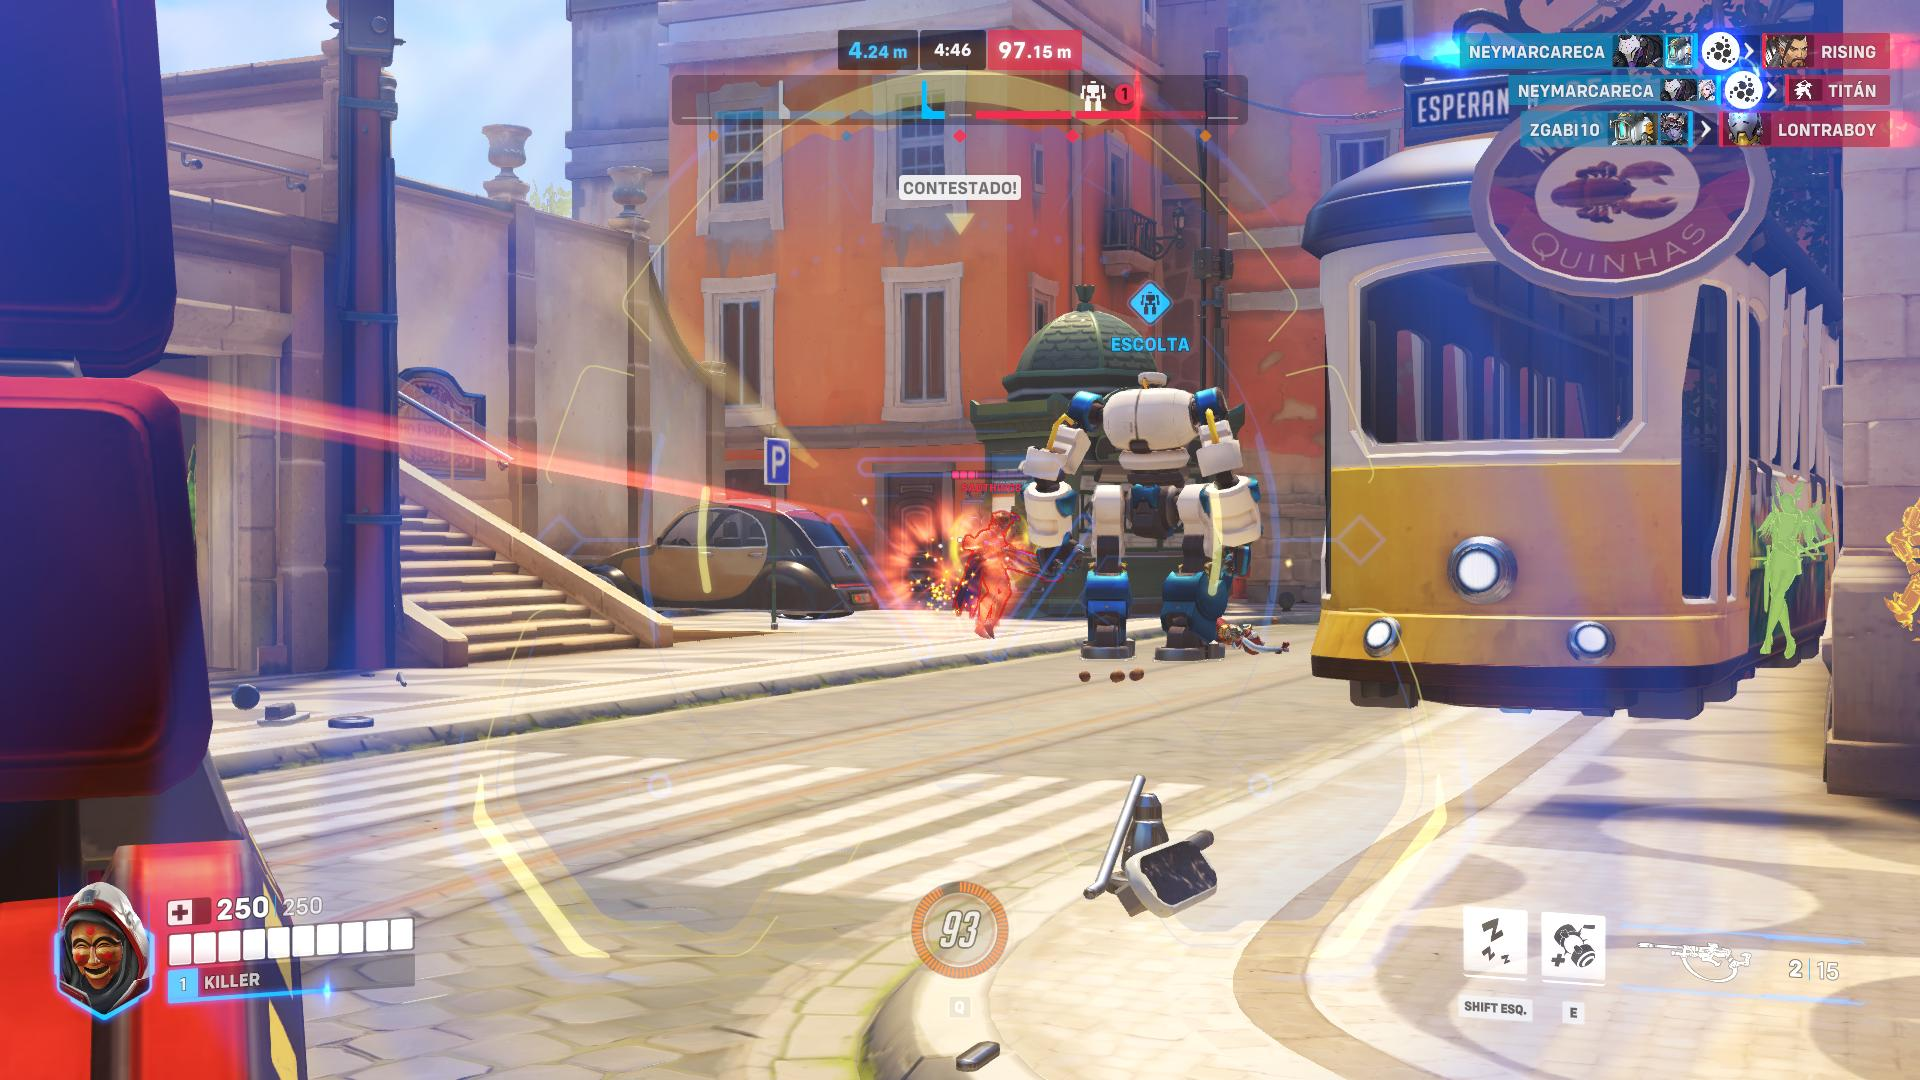enemy: (963, 510, 1021, 622)
